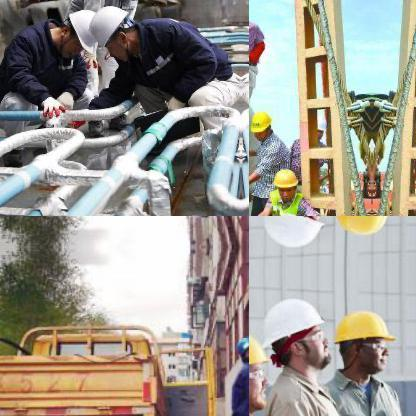Helmet: (258, 288, 330, 370), (326, 300, 398, 378), (85, 0, 139, 67), (258, 216, 331, 256), (54, 3, 100, 62), (249, 321, 276, 410), (325, 216, 400, 244), (270, 165, 298, 199), (249, 107, 272, 141), (304, 111, 326, 143), (234, 333, 248, 363)
